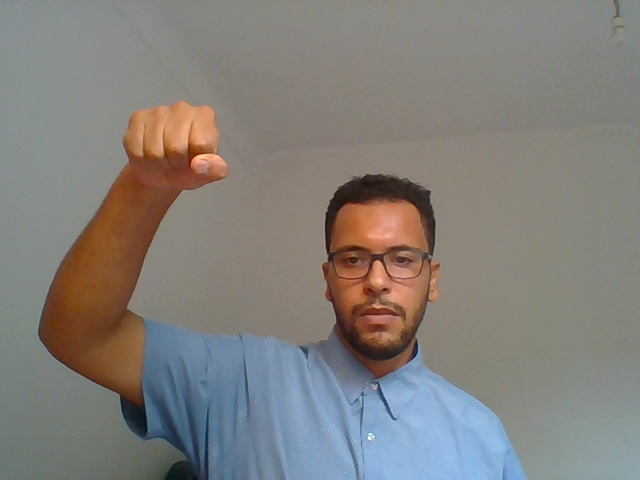yes: (97, 90, 238, 221)
